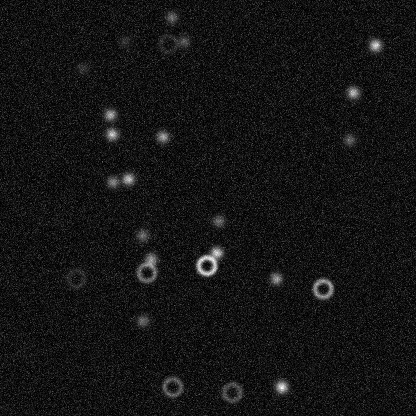Ring: (156, 31, 180, 55), (310, 276, 334, 300), (194, 253, 218, 277), (160, 374, 184, 398), (220, 380, 244, 404), (63, 266, 87, 290), (134, 260, 158, 284)
Spot: (163, 9, 179, 25), (116, 33, 132, 49), (344, 84, 360, 100), (102, 106, 118, 122), (210, 212, 226, 228), (74, 60, 90, 76), (134, 312, 150, 328), (120, 170, 136, 186), (208, 244, 224, 260), (367, 37, 383, 53), (134, 227, 150, 243), (104, 173, 120, 189), (142, 251, 158, 267), (341, 131, 357, 147), (103, 126, 119, 142), (154, 128, 170, 144), (268, 270, 284, 286), (273, 378, 289, 394), (175, 33, 191, 49)
